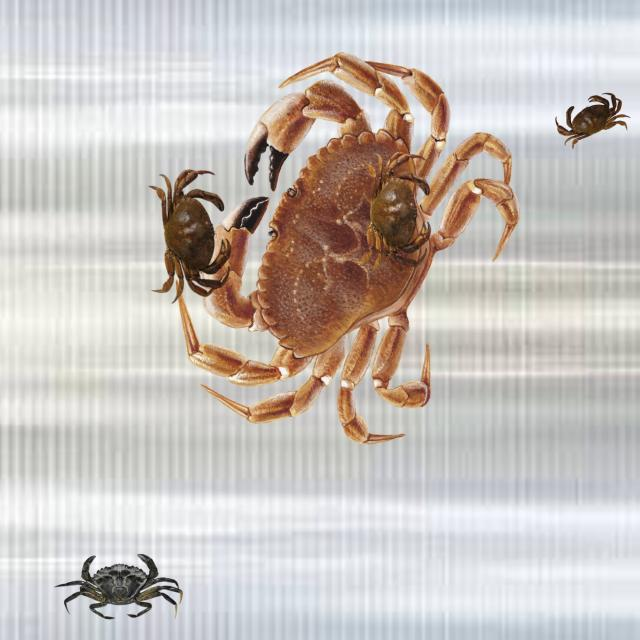European_Green_Crab: (52, 552, 184, 623)
